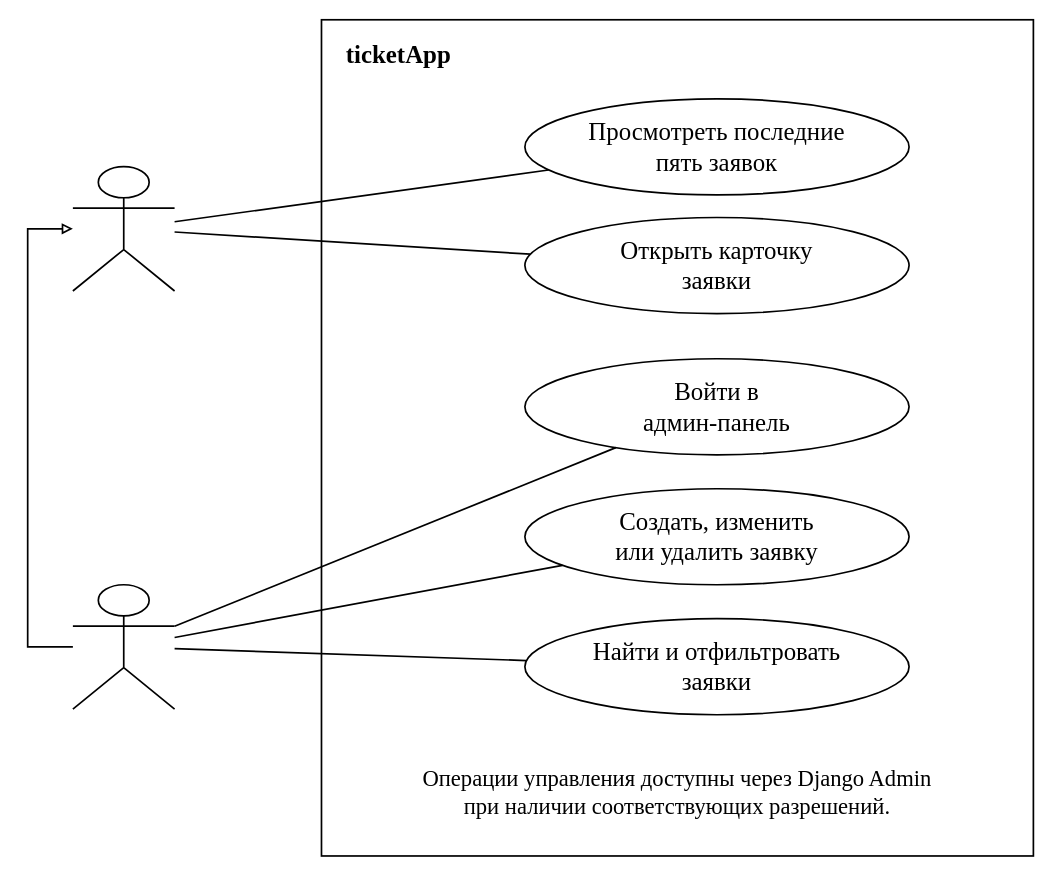
Image size: 1054x877. Some labels were removed from this diagram. The box of each missing label's shape, as (x1, y1, x2, y2) in pixels:
Посетитель: (72, 165, 175, 291)
Сотрудник с правами: (72, 583, 175, 709)
